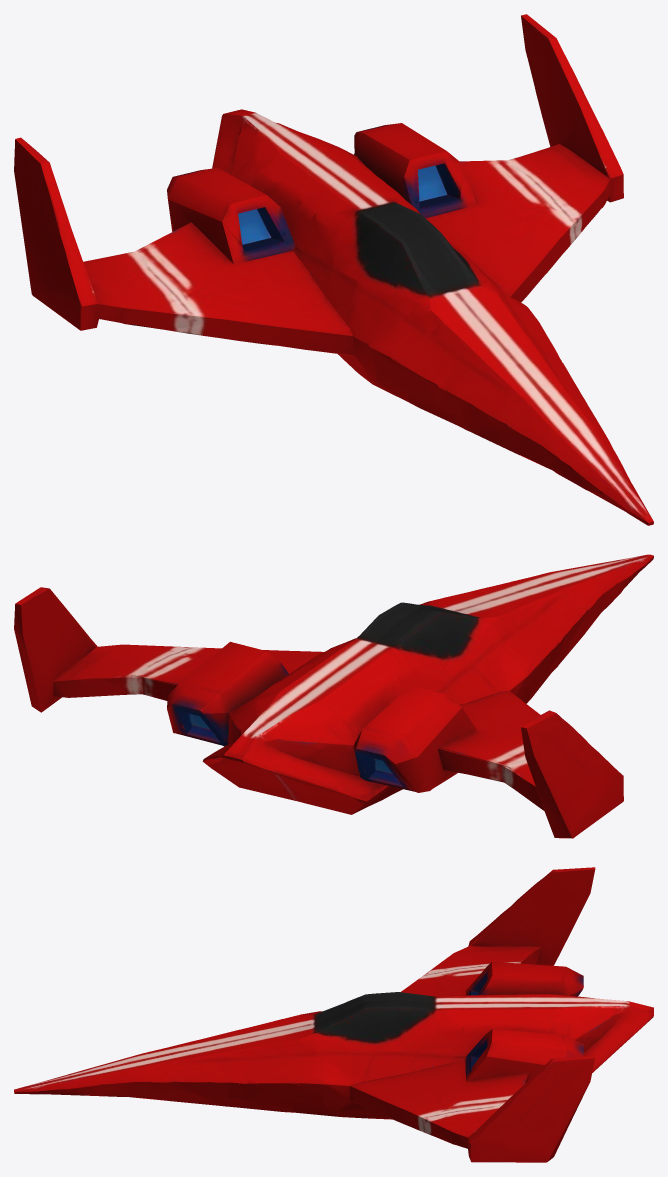
3 renders of one model, top to bottom at view 1: azimuth 30°, elevation 25°; view 2: azimuth 150°, elevation 25°; view 3: azimuth 270°, elevation 25°, orthographic. The views are drawn at different scales.
Parts seen in each view (by area): view 1: geometry_0; view 2: geometry_0; view 3: geometry_0.
Boxes of the visible parts, x1,y1,x2,y2 form: geometry_0: (14, 14, 653, 525); geometry_0: (14, 554, 653, 838); geometry_0: (14, 867, 653, 1162).
Bounding box in the file's own units: 0.7938 × 0.2524 × 1.06.
1 material, 1 textured.
